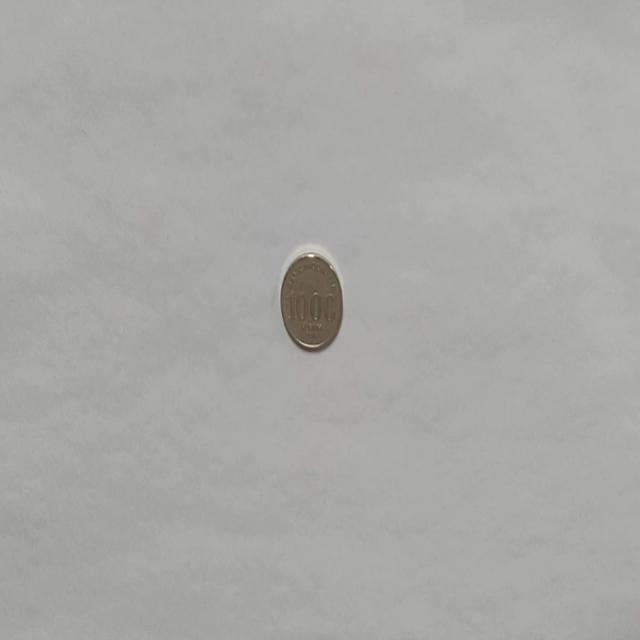seribu rupiah koin: (278, 246, 344, 352)
